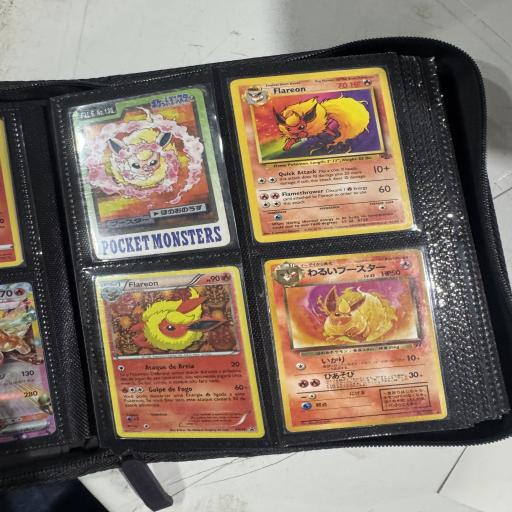card: (263, 239, 450, 440), (230, 56, 413, 254), (93, 256, 266, 461), (69, 86, 232, 269)
